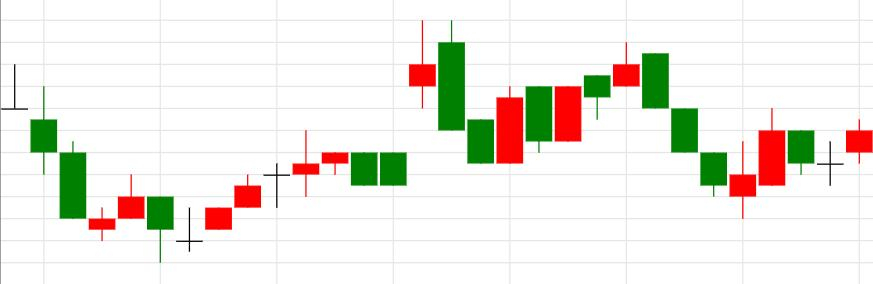three_black_crows_fall: (467, 42, 728, 198)
